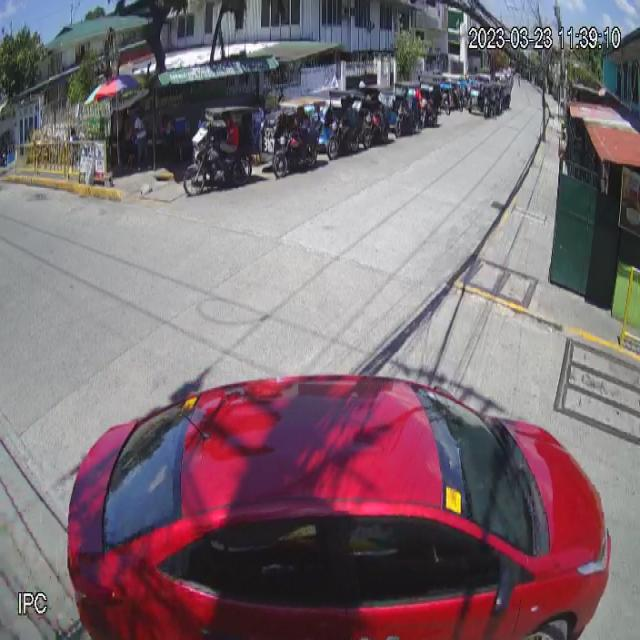Car: (64, 376, 610, 640)
